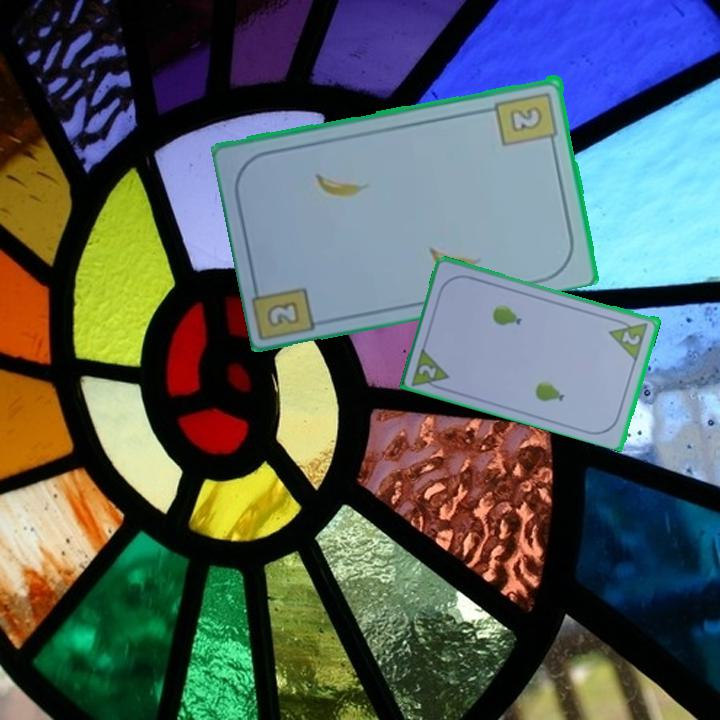2b: (492, 88, 561, 150), (263, 297, 303, 330)
2p: (408, 343, 453, 394), (618, 327, 643, 348)
